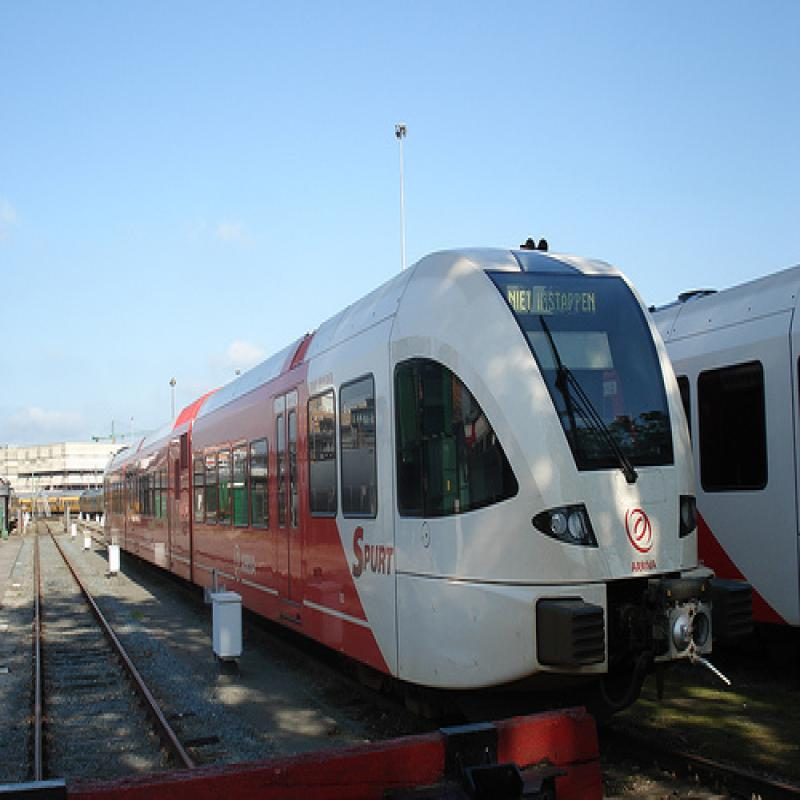train: (105, 236, 734, 693), (646, 263, 799, 628)
